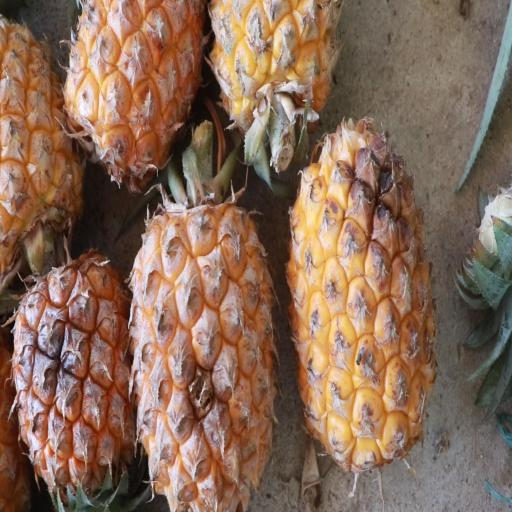Pineapple - v8 v1: (284, 117, 435, 475), (132, 159, 283, 507), (12, 235, 141, 504), (60, 0, 205, 188), (0, 0, 88, 287), (210, 1, 344, 178)
